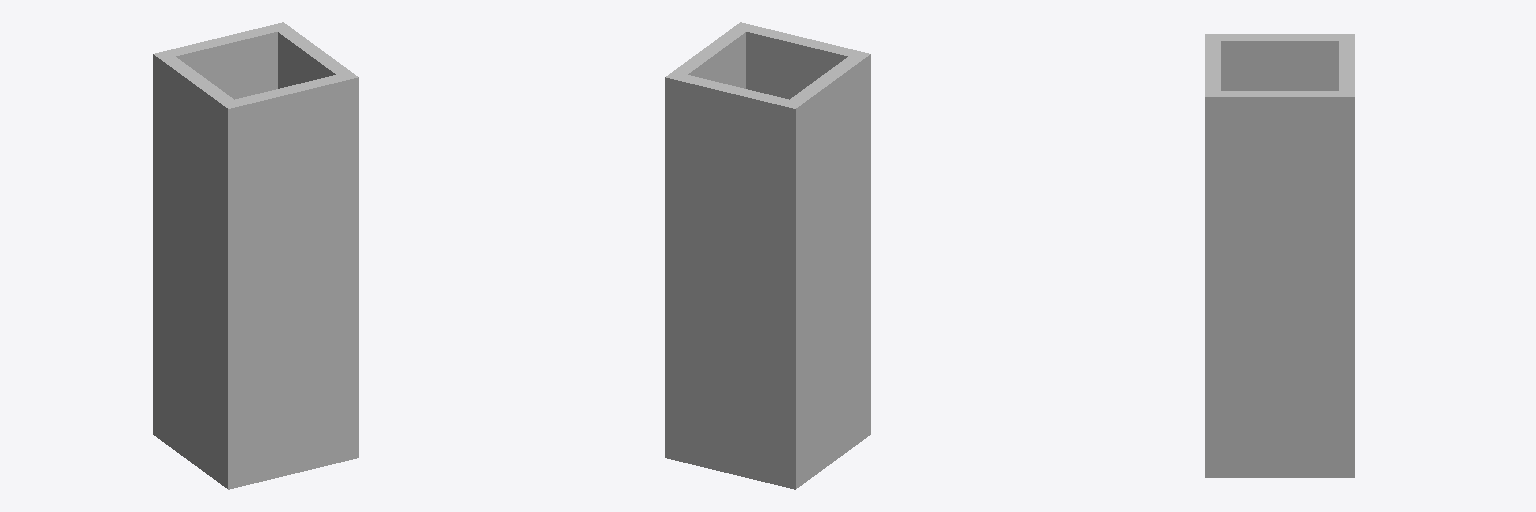
Rendered from wall.obj.
3 renders of one model, left to right at view 1: azimuth 30°, elevation 25°; view 2: azimuth 150°, elevation 25°; view 3: azimuth 270°, elevation 25°, orthographic.
Parts seen in each view (by area): view 1: Cube; view 2: Cube; view 3: Cube.
Boxes of the visible parts, box(x1,y1,x2,y2) form: Cube: box(153, 22, 358, 489); Cube: box(665, 22, 870, 489); Cube: box(1205, 34, 1354, 477).
Size of the model in its own units: 2.56 by 7.14 by 2.56.